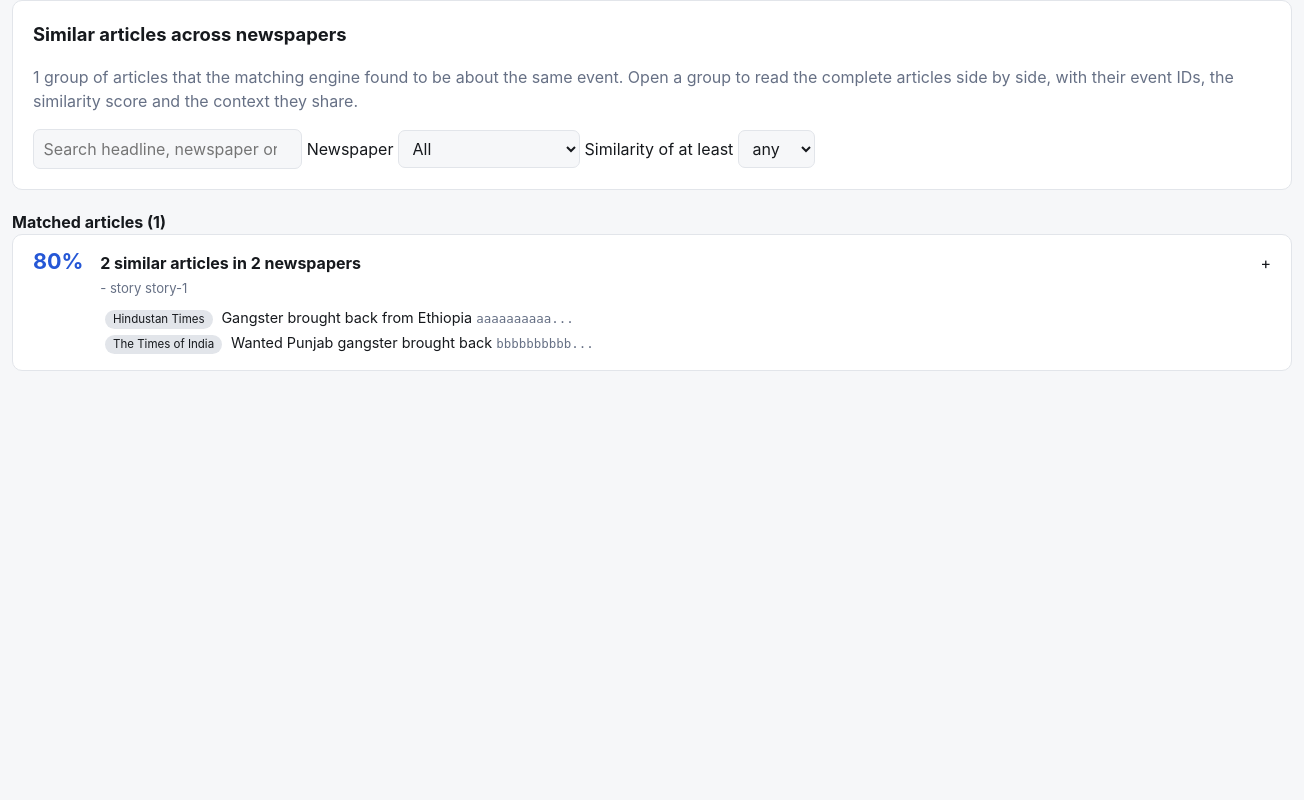
Test: SimilarArticles › a run processed before the match details were saved still shows the grouped articles, and says why there is no score
Step 1. Click the button "2 similar articles" → (652, 302), box [13,235,1291,370]
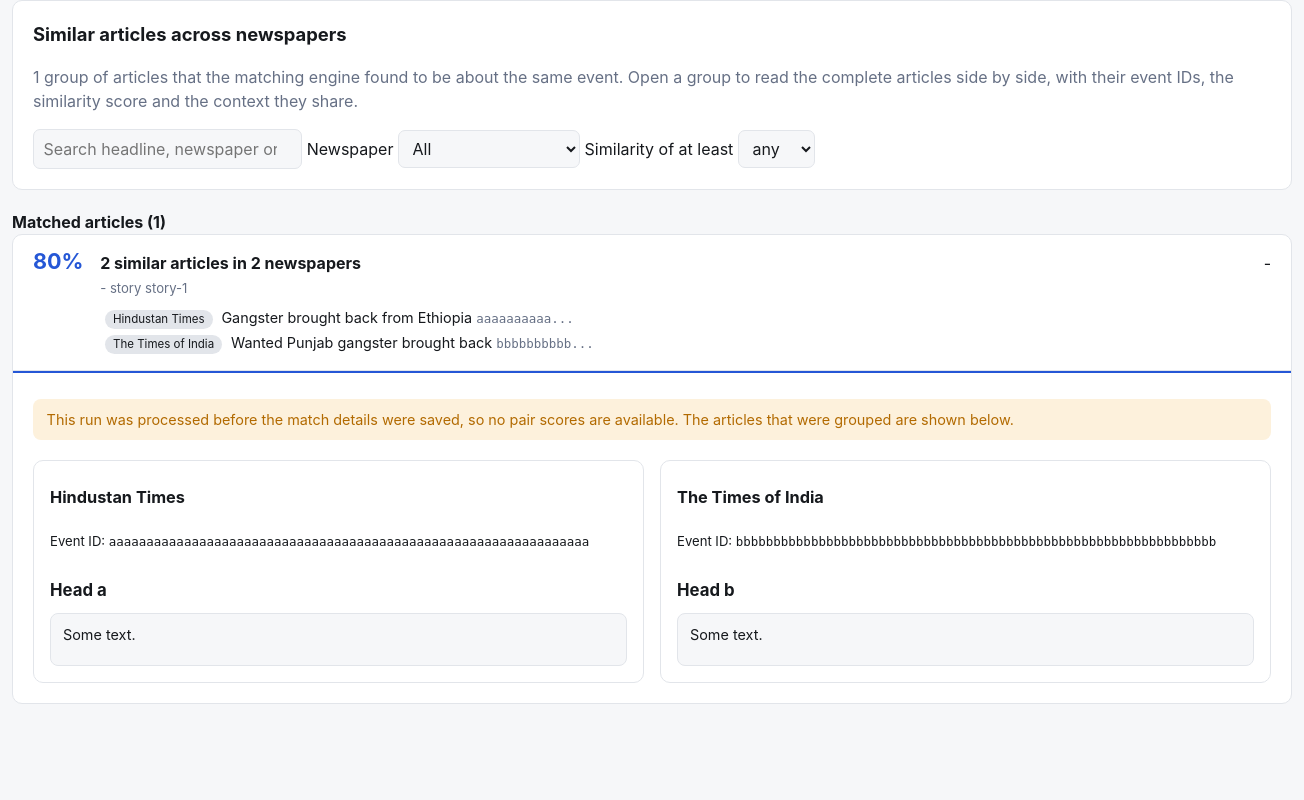
Expected: the text "processed before the match details were saved" is shown, [47,411,1014,428]
